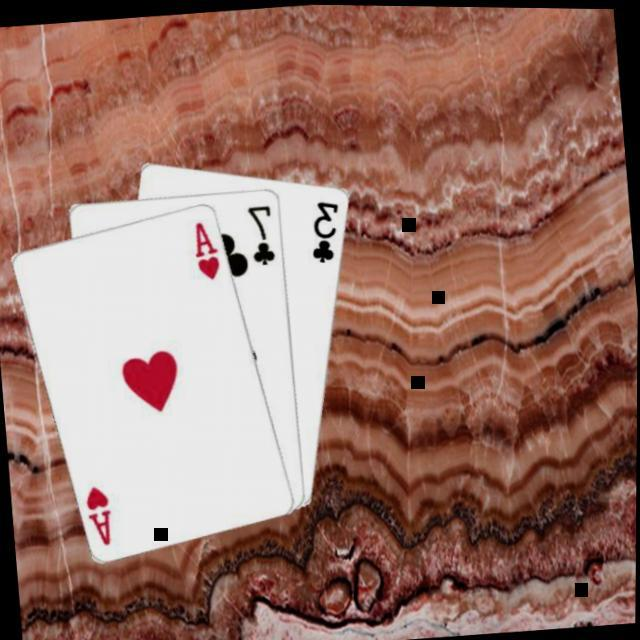3C: (306, 193, 348, 264)
7C: (245, 198, 281, 265)
AH: (83, 480, 119, 547), (190, 215, 225, 281)
